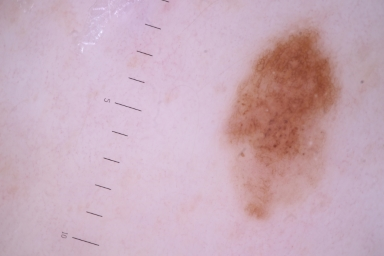nevus: (229, 30, 337, 216)
